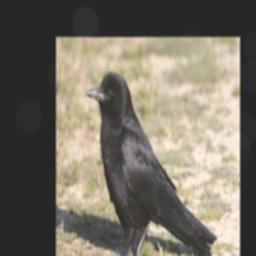Crow: (84, 70, 218, 256)
